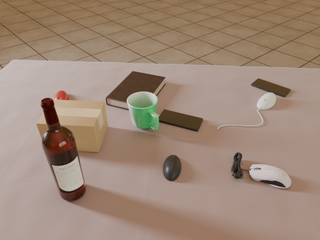book: (106, 71, 165, 110)
bottle: (41, 98, 86, 201)
box: (37, 99, 108, 152)
cup: (127, 92, 159, 130)
mouse: (247, 165, 291, 188), (163, 155, 181, 181), (257, 93, 276, 109), (54, 91, 68, 100)
phone: (158, 109, 203, 131), (251, 78, 291, 97)
